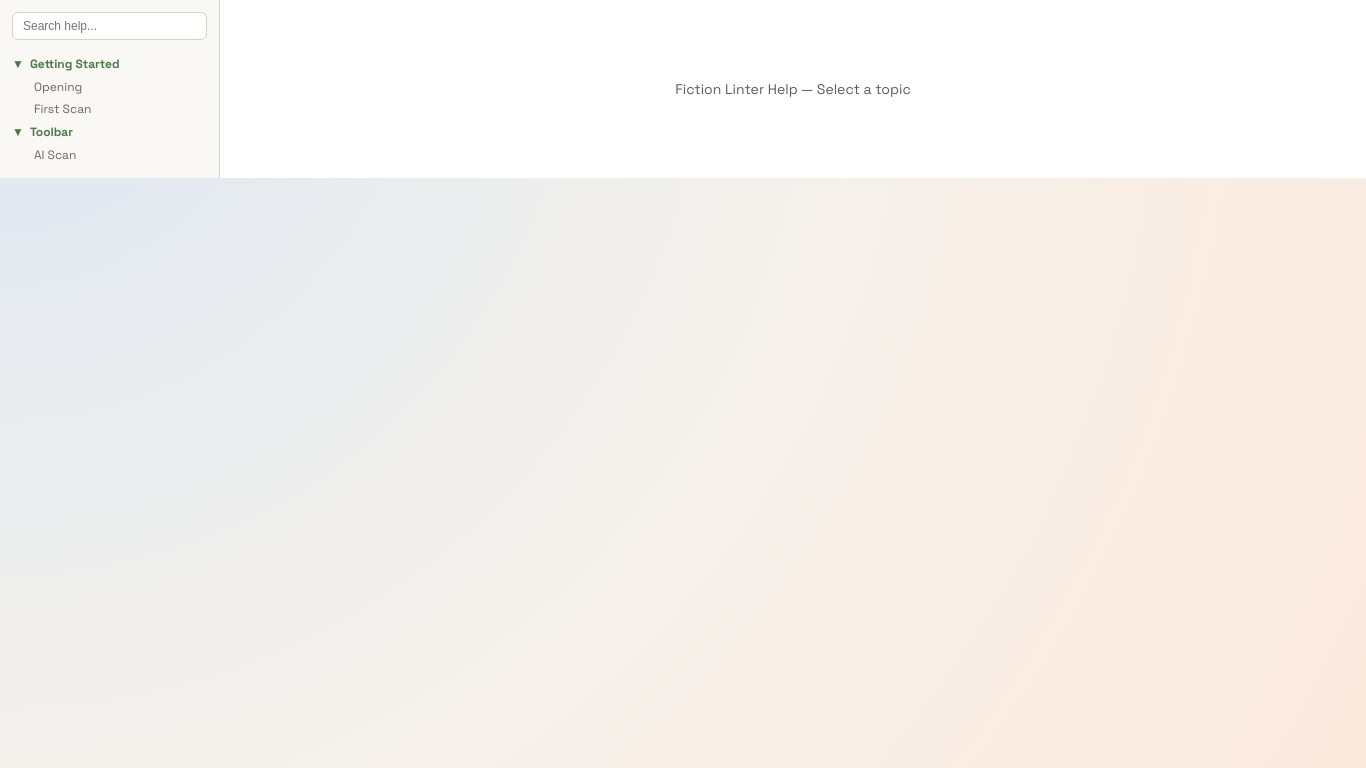
Test case: HelpTab › renders topic content when a topic is clicked
Expected: the text "Fiction Linter Help — Select a topic" is shown, [675, 78, 911, 100]
Note: Click the "Opening" topic
Click the button "Opening" at (118, 87), box [28, 76, 207, 98]
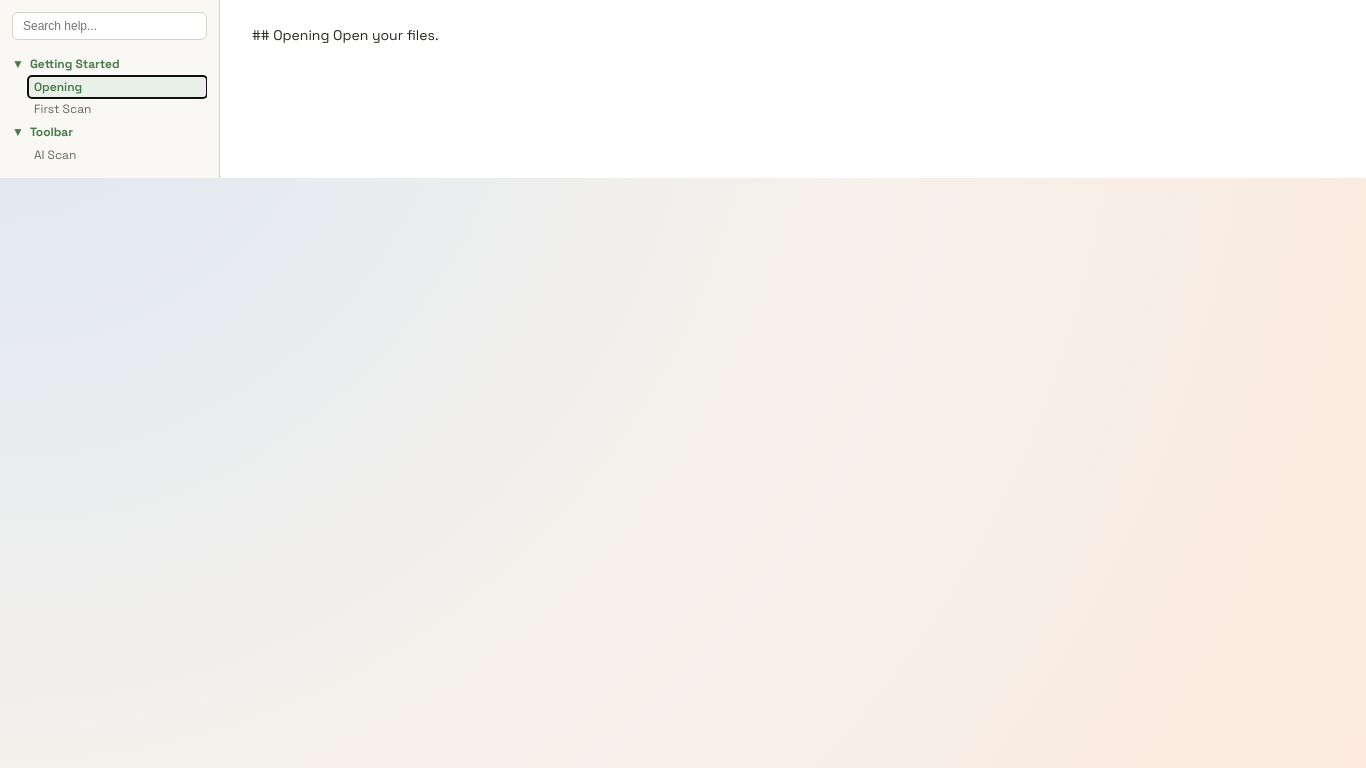
Now the text with test id "rendered" shows "Opening", box [252, 26, 438, 44]
